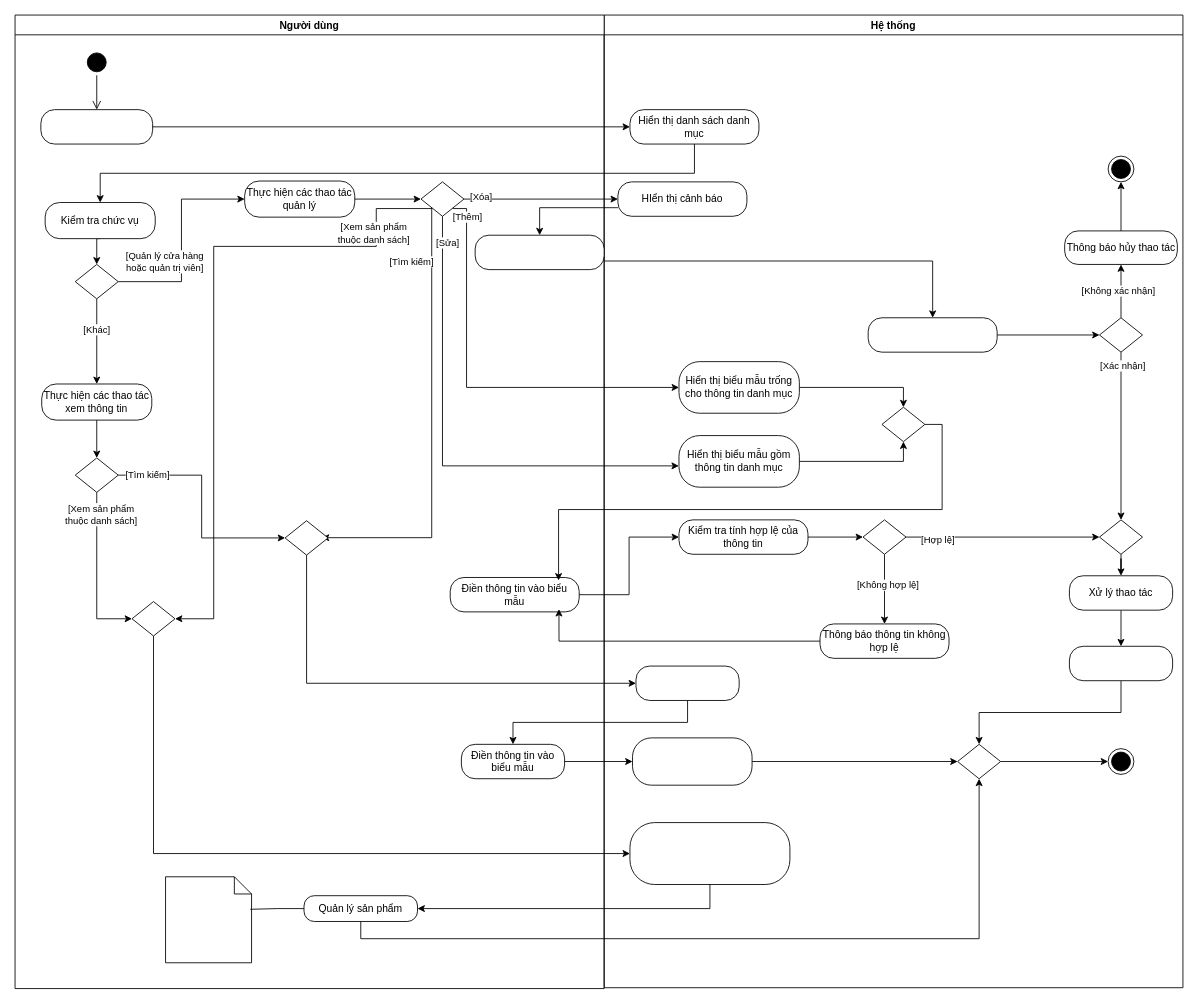
Some shapes in this 1198 by 1004 pixel diagram are drawn without their labels. The shapes that lost their labels are listed below. From the top down, each one's box as (x1, y1, x2, y2) in pixels, then its label:
(40, 109, 153, 144): Chọn chức năng Quản lý danh mục
(474, 234, 604, 270): Xác nhận cảnh báo
(867, 317, 997, 352): Kiểm tra xác nhận
(635, 665, 739, 700): Hiển thị biểu mẫu thông tin trống
(1069, 645, 1173, 681): Thông báo thành công
(632, 737, 752, 785): Hiển thị danh sách danh mục dựa trên thông tin tìm kiếm
(629, 822, 790, 885): Hiển thị biểu mẫu bao gồm danh sách các sản phẩm thuộc danh mục
(165, 876, 252, 963): Activity Diagram: Quản lý sản phẩm
